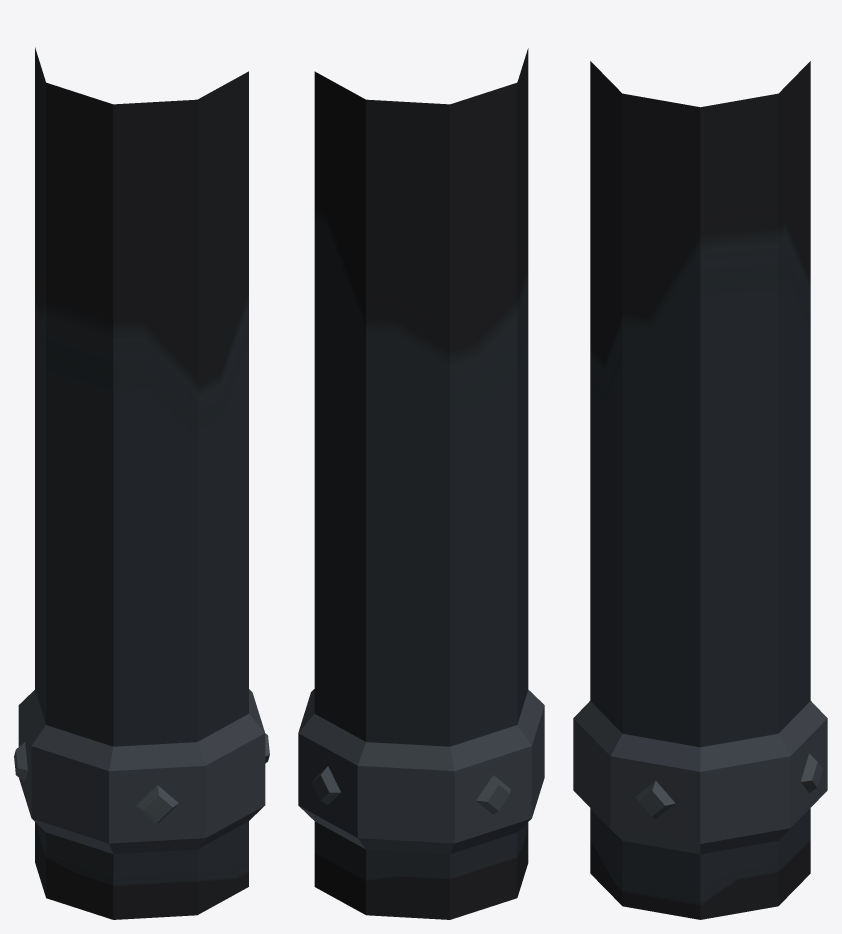
The model's file is SM_Stove_Pipe_A.gltf.
The picture shows the model from 3 angles, left to right: view 1: azimuth 30°, elevation 25°; view 2: azimuth 150°, elevation 25°; view 3: azimuth 270°, elevation 25°; orthographic projection.
Parts seen in each view (by area): view 1: SM_Stove_Pipe_A; view 2: SM_Stove_Pipe_A; view 3: SM_Stove_Pipe_A.
Part boxes in pixels (x1,y1,x2,y2): SM_Stove_Pipe_A: (14,47,269,919); SM_Stove_Pipe_A: (298,48,544,919); SM_Stove_Pipe_A: (573,61,827,919).
Size of the model in its own units: 0.2835 by 1 by 0.2835.
Materials: 1 (1 with a texture image).
